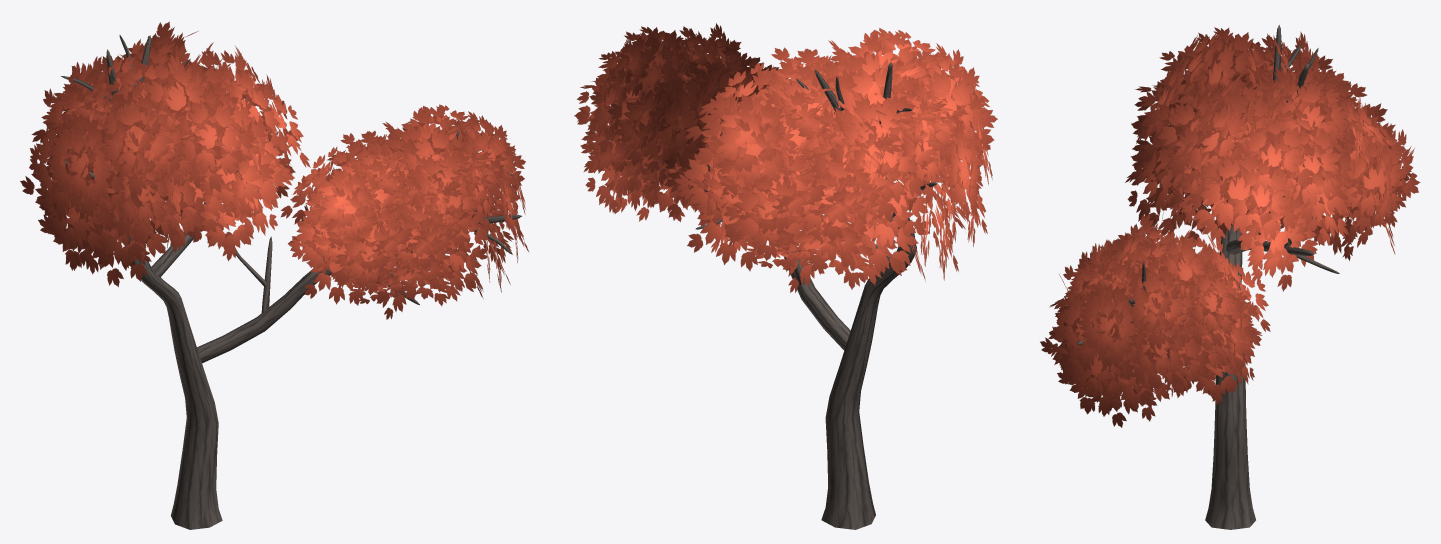
Rendered from oak.glb.
3 renders of one model, left to right at view 1: azimuth 30°, elevation 25°; view 2: azimuth 150°, elevation 25°; view 3: azimuth 270°, elevation 25°, orthographic. The views are drawn at different scales.
Parts seen in each view (by area): view 1: MapleTree_1; view 2: MapleTree_1; view 3: MapleTree_1.
Boxes of the visible parts, x1,y1,x2,y2 form: MapleTree_1: (20, 21, 528, 529); MapleTree_1: (574, 23, 997, 529); MapleTree_1: (1040, 25, 1420, 529).
Bounding box in the file's own units: 6.23 × 6.64 × 4.9.
2 materials, 2 textured.
